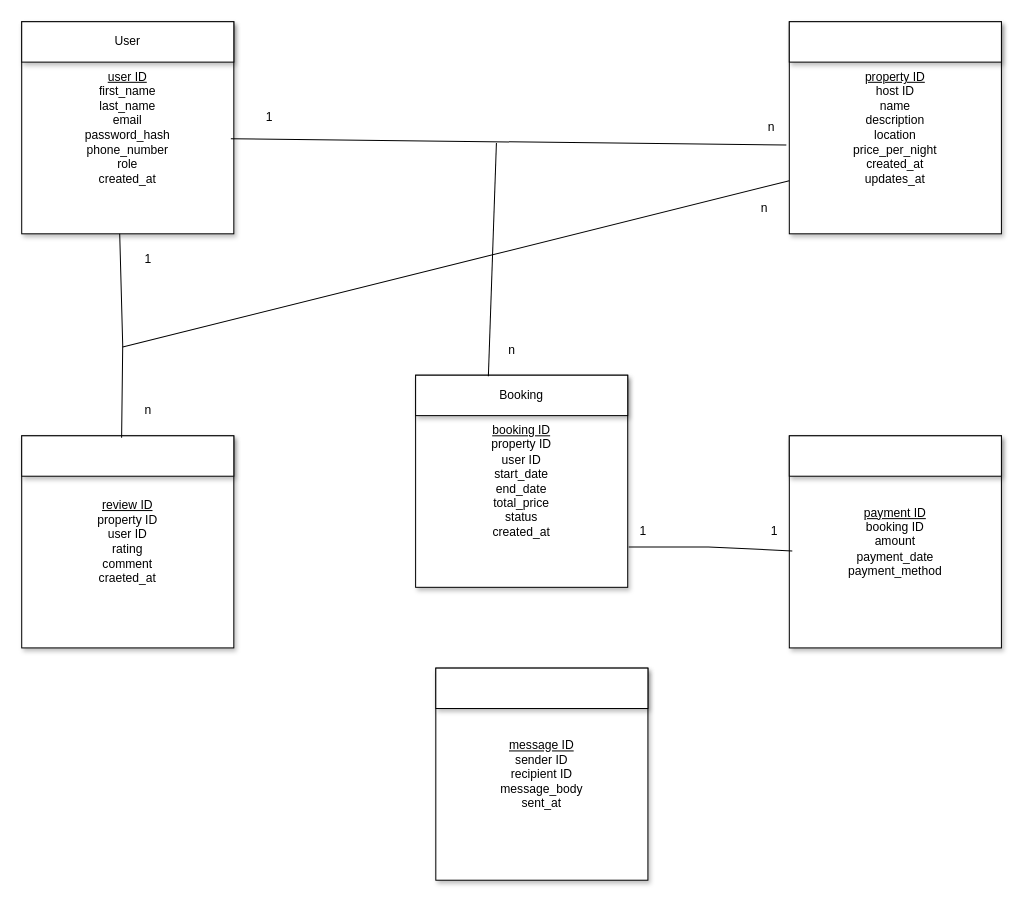
The diagram is 1025 pixels wide and 905 high, and some of its shapes have lost their labels. Each missing label, with the centre of its shape:
Message: pixel 542 689
Payment: pixel 895 457
Property: pixel 895 43
Review: pixel 128 457
